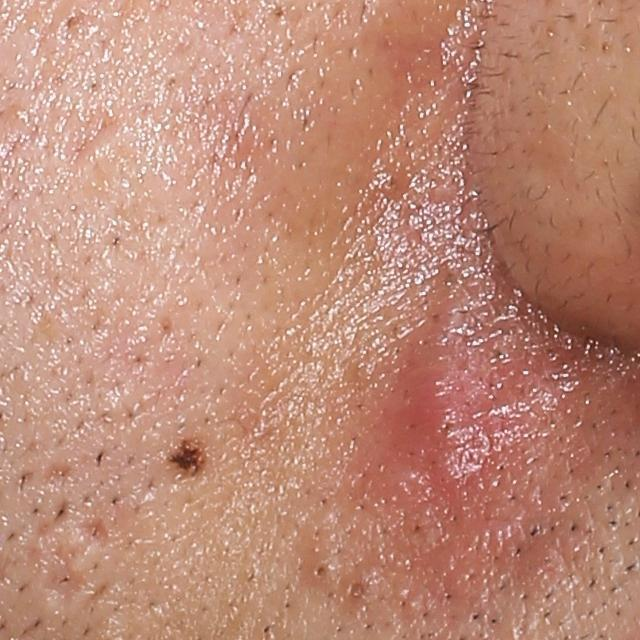atrophic_scar: (40, 544, 86, 609), (74, 106, 119, 162), (37, 460, 73, 490), (80, 511, 110, 543)
comedo: (334, 569, 388, 612), (302, 555, 340, 592)
nevus: (164, 440, 210, 480)
nodule: (376, 270, 530, 526)
